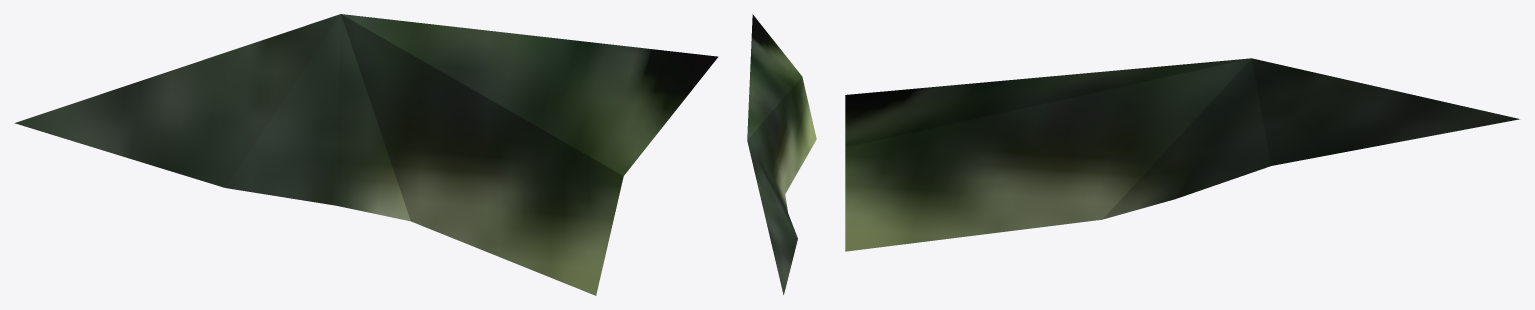
3 views of the same model, side by side, from view 1: azimuth 30°, elevation 25°; view 2: azimuth 150°, elevation 25°; view 3: azimuth 270°, elevation 25° (orthographic). The views are drawn at different scales.
Bounding box in the file's own units: 2.54 × 1.33 × 3.72.
1 material, 1 textured.
